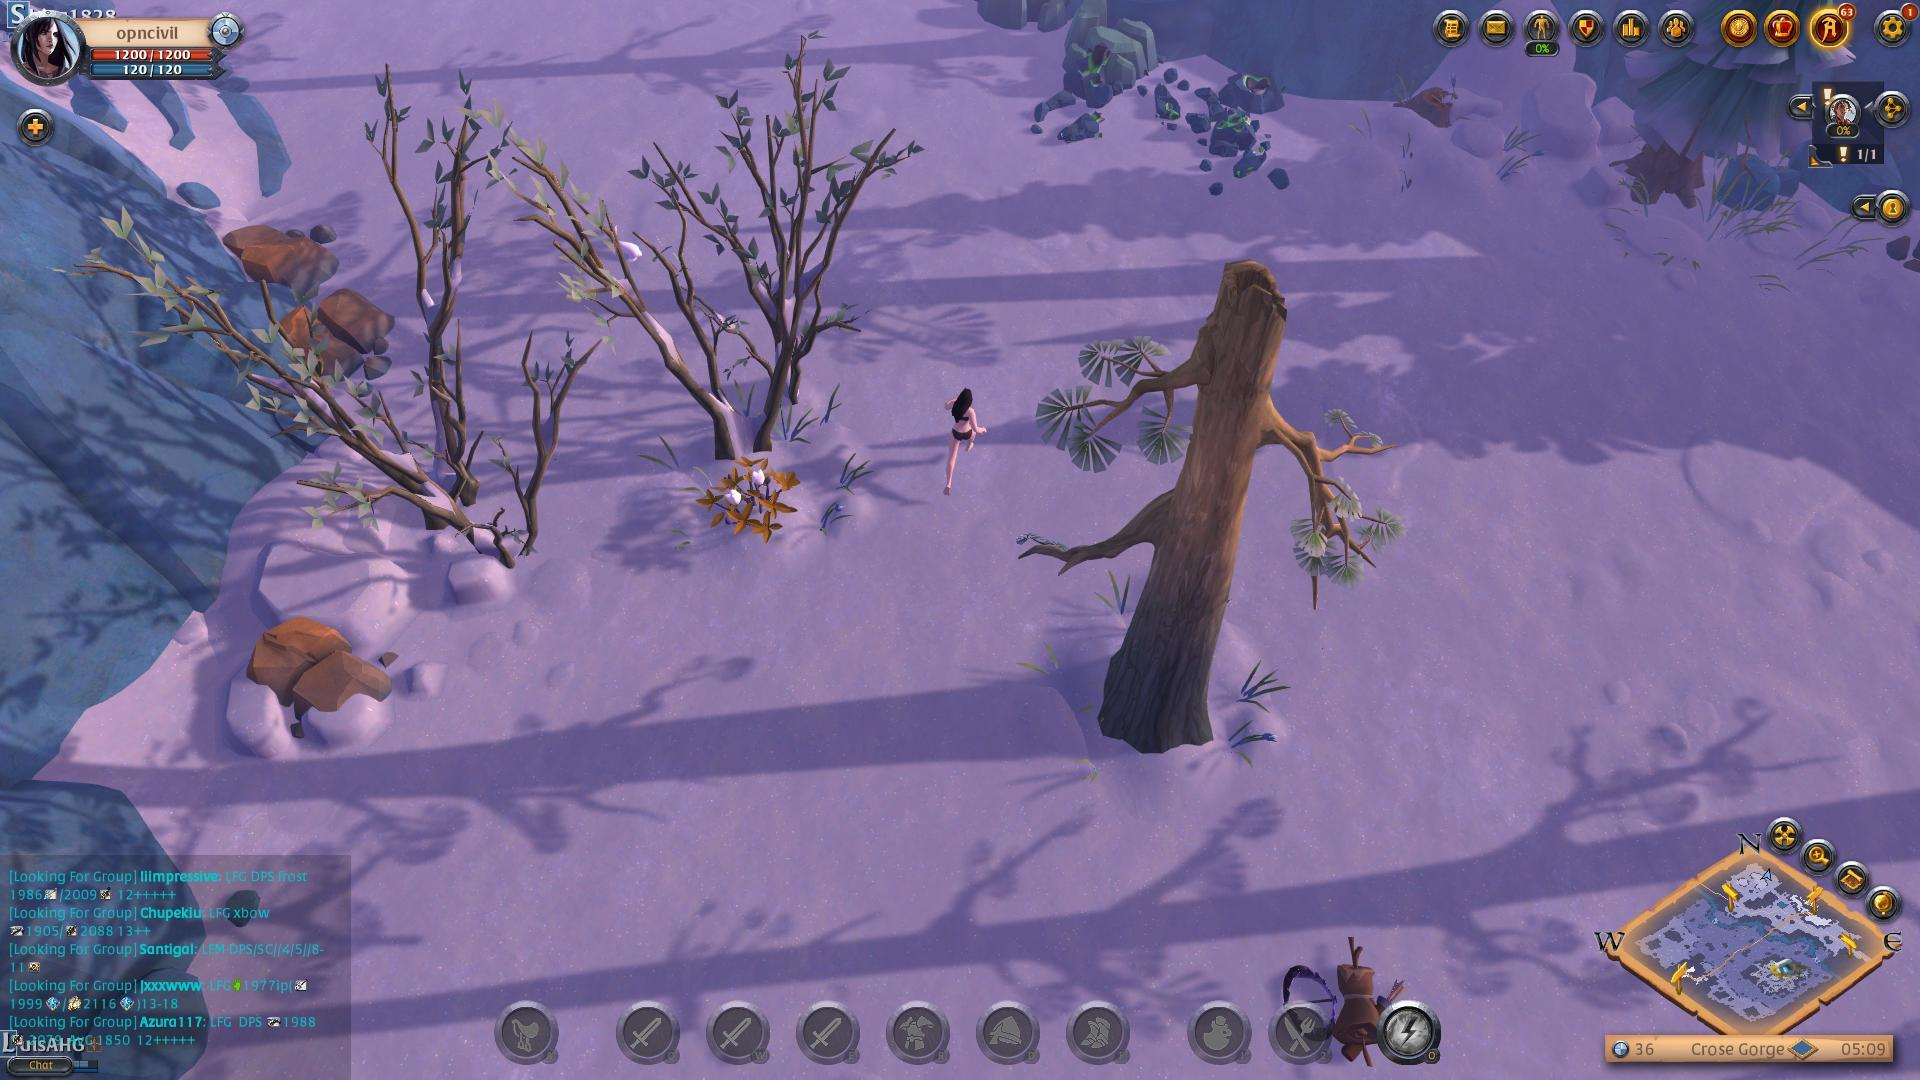cotton: (690, 448, 804, 545)
limestone: (233, 611, 398, 760), (212, 218, 338, 306), (280, 282, 390, 378)
tin_ore: (1051, 40, 1129, 113)
